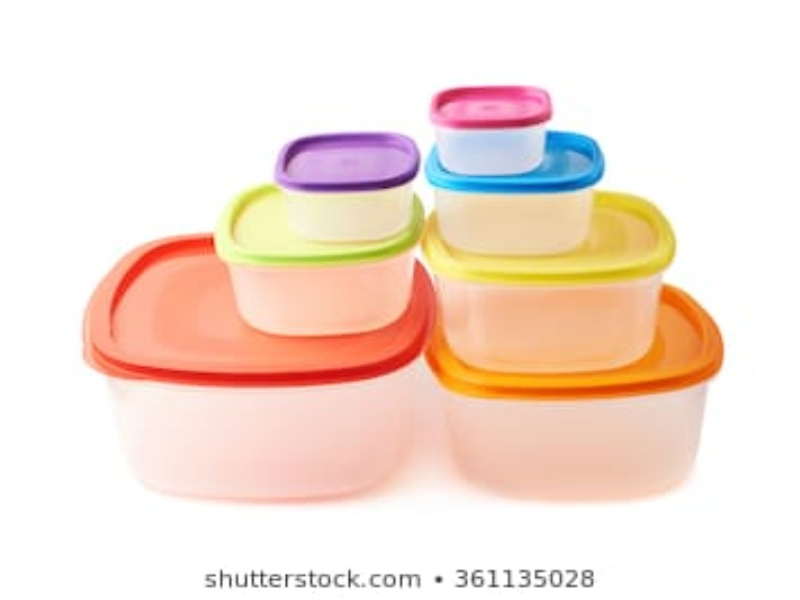plastic-container: (75, 232, 439, 503), (427, 280, 724, 502), (221, 183, 422, 335), (421, 128, 612, 255), (270, 131, 420, 242), (426, 82, 553, 173)
